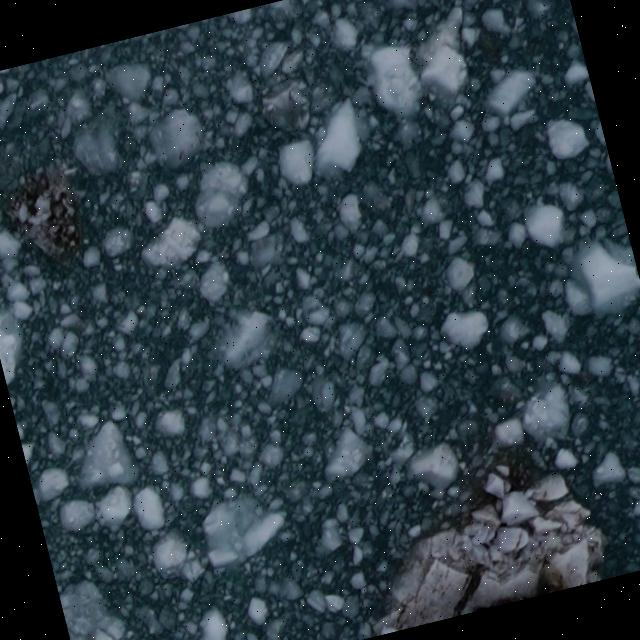seal: (465, 585, 541, 613)
